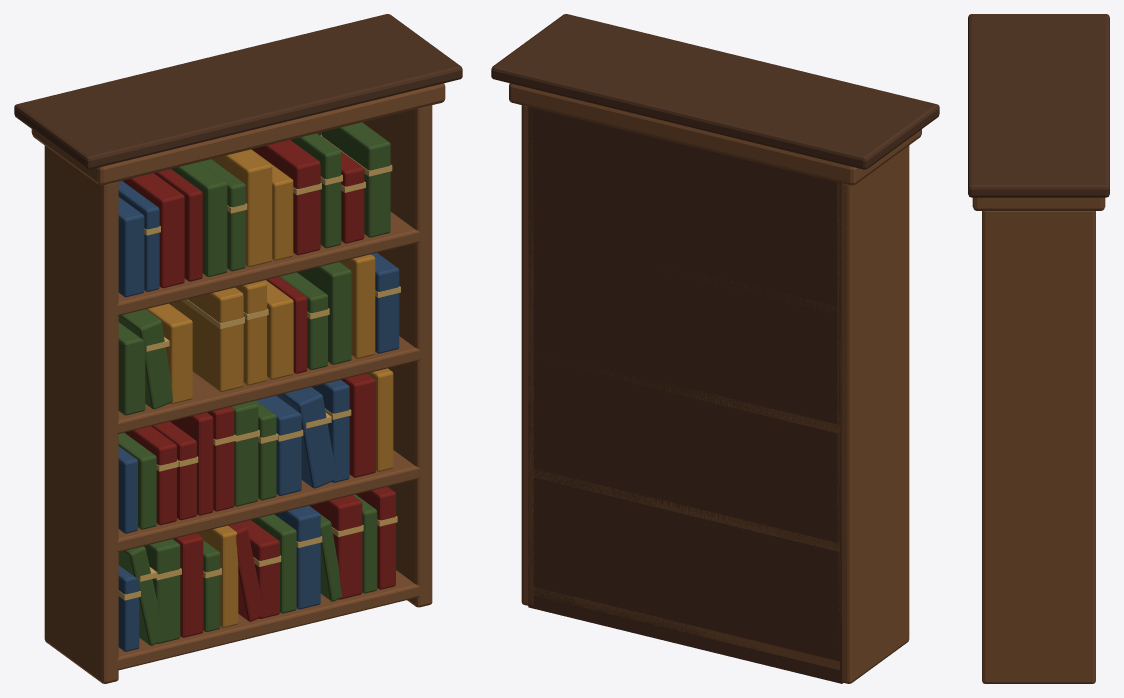
File: bookshelf.glb
3 views of the same model, side by side, from view 1: azimuth 30°, elevation 25°; view 2: azimuth 150°, elevation 25°; view 3: azimuth 270°, elevation 25° (orthographic). The views are drawn at different scales.
Parts seen in each view (by area): view 1: bookshelf; view 2: bookshelf; view 3: bookshelf.
Boxes of the visible parts, bbox=[...] form: bookshelf: bbox=[14, 14, 462, 683]; bookshelf: bbox=[491, 14, 939, 683]; bookshelf: bbox=[968, 14, 1109, 683].
Bounding box in the file's own units: 1.8 × 2.46 × 0.62.
